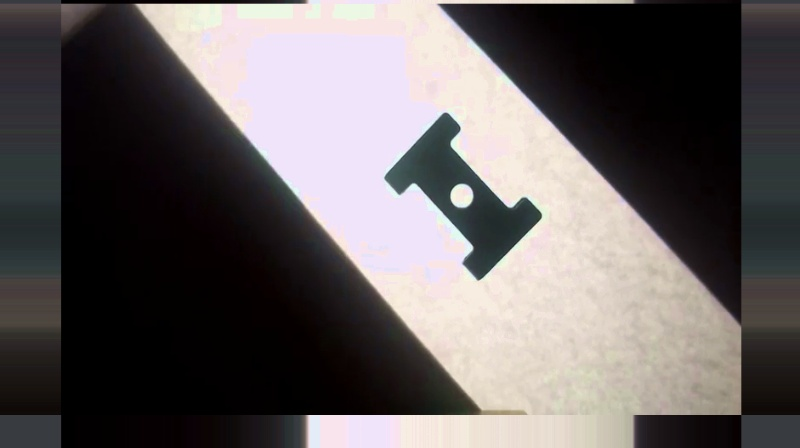O002: (382, 109, 545, 283)
